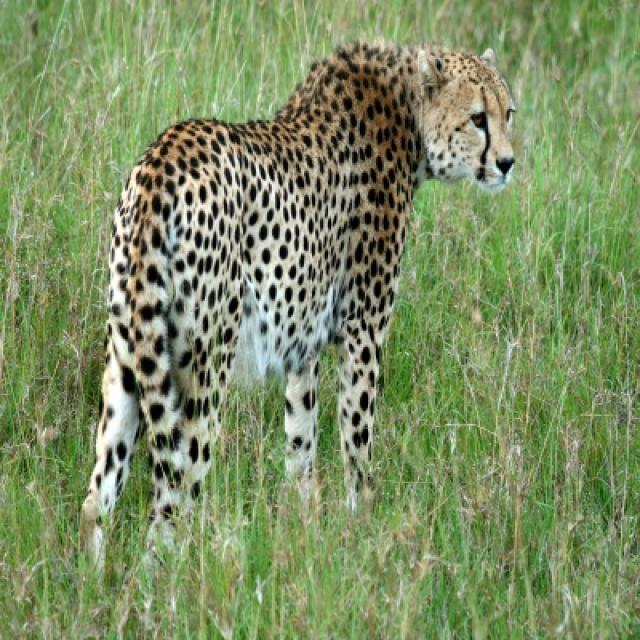Cheetah: (80, 40, 517, 570)
